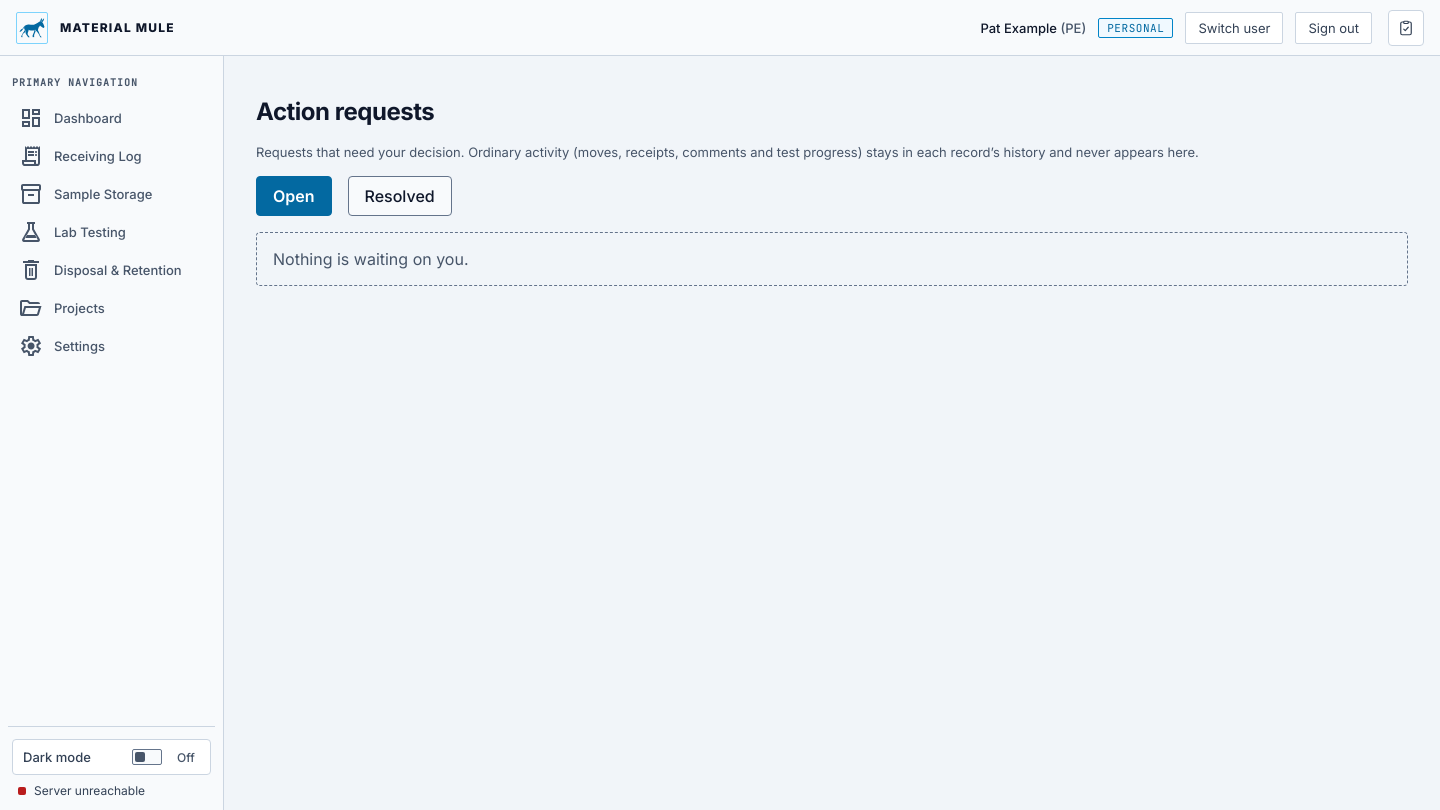
Test: Action requests (MM-T27) › MISC-10: the preview says so when nothing is waiting
The width and height of the screenshot is (1440, 810).
Click the button named "Pending actions, 0 waiting on you" at (1406, 28), box [1388,10,1424,46]
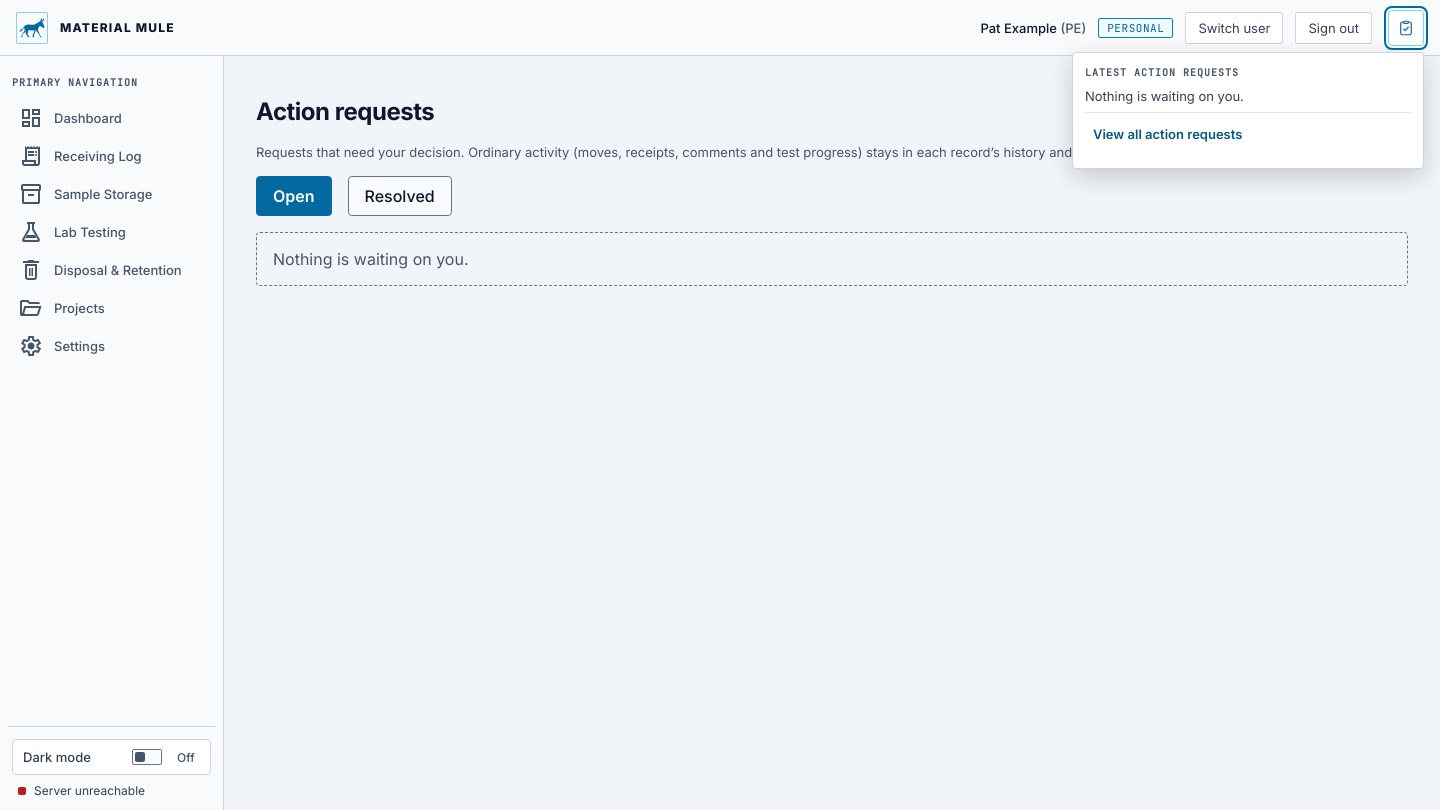
Expected: the text "Nothing is waiting on you." below "Latest action requests" is shown, [1085,88,1244,104]
Click the link "View all action requests" at (1168, 134), box [1085,112,1411,156]
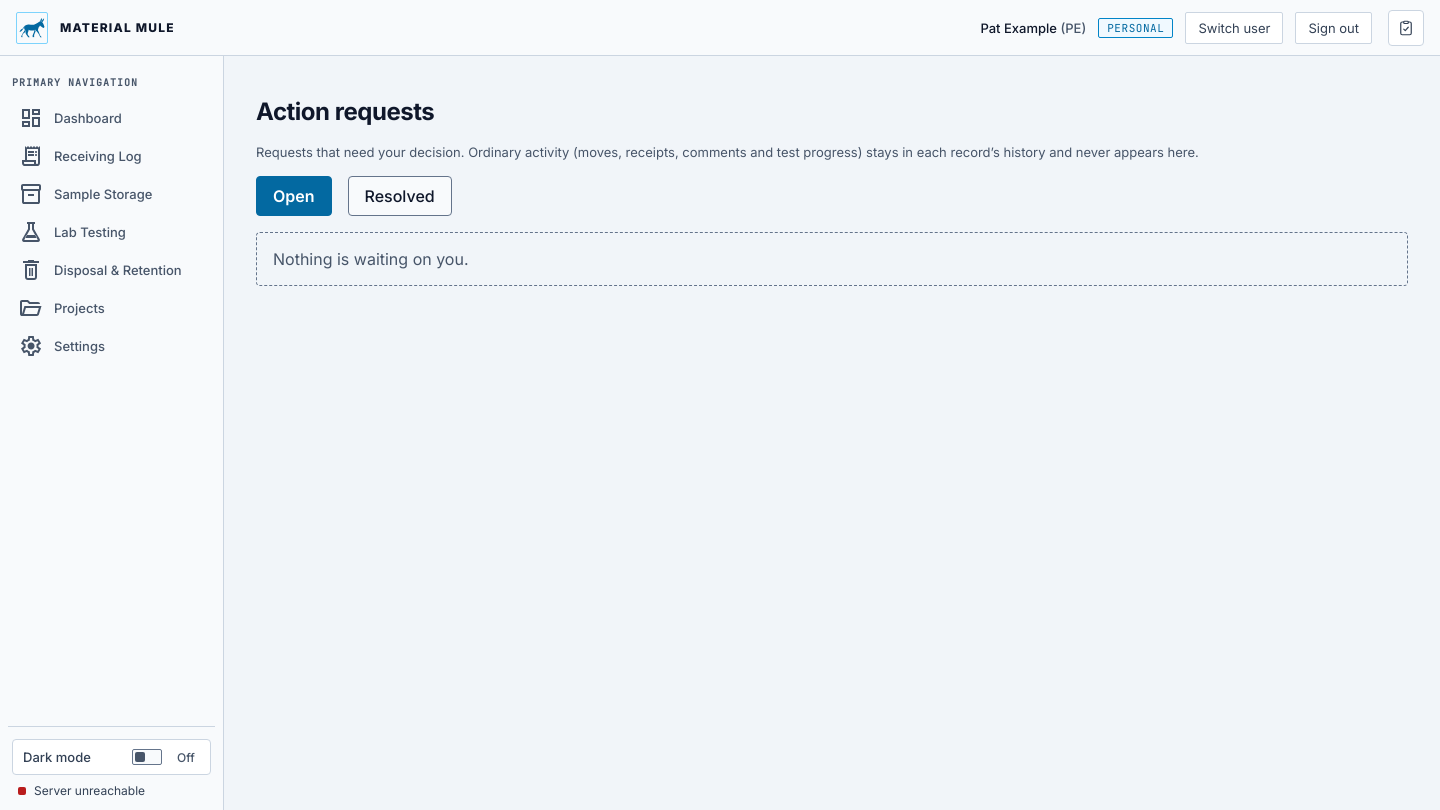
Expected: the heading "Latest action requests" is gone
